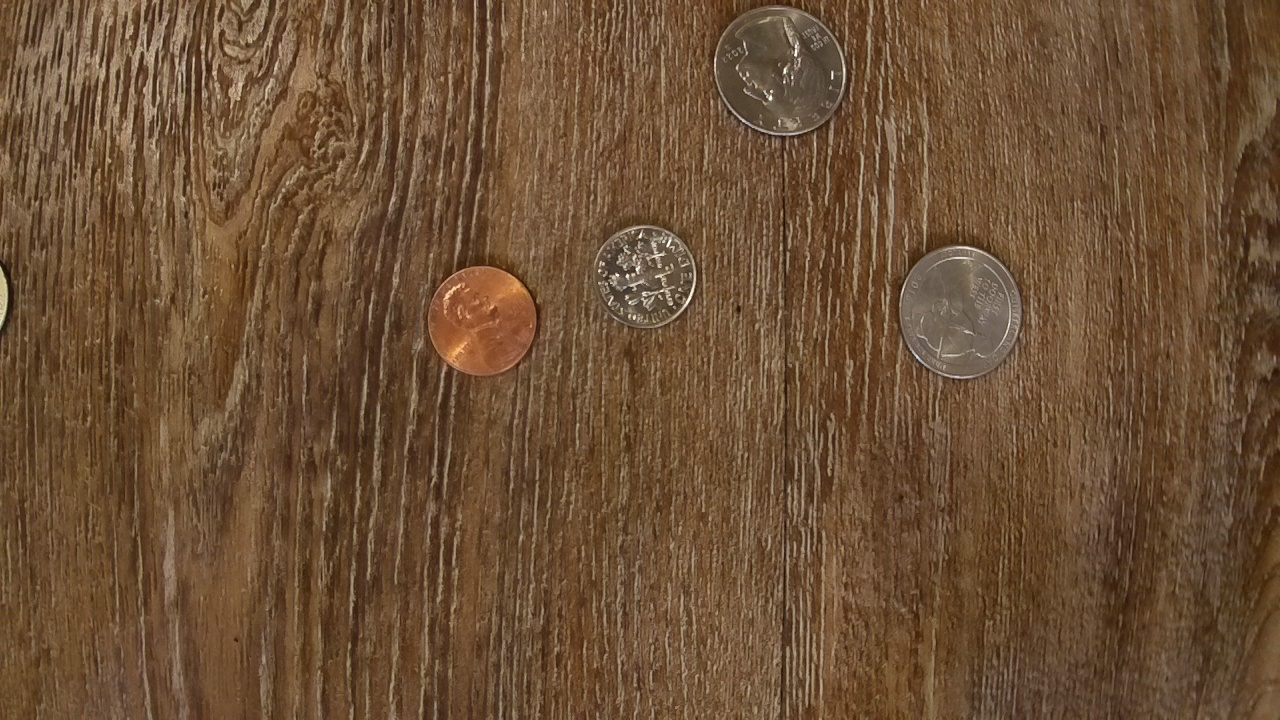dime: (593, 218, 701, 332)
penny: (426, 258, 538, 380)
quarter: (709, 4, 847, 138), (897, 240, 1021, 382)
